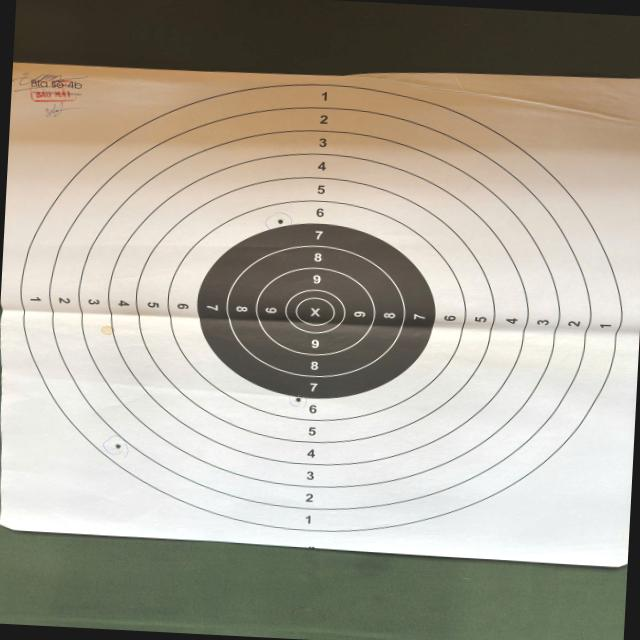bullet: (278, 218, 285, 225), (116, 444, 121, 449), (296, 397, 301, 402)
target: (0, 61, 640, 568)
